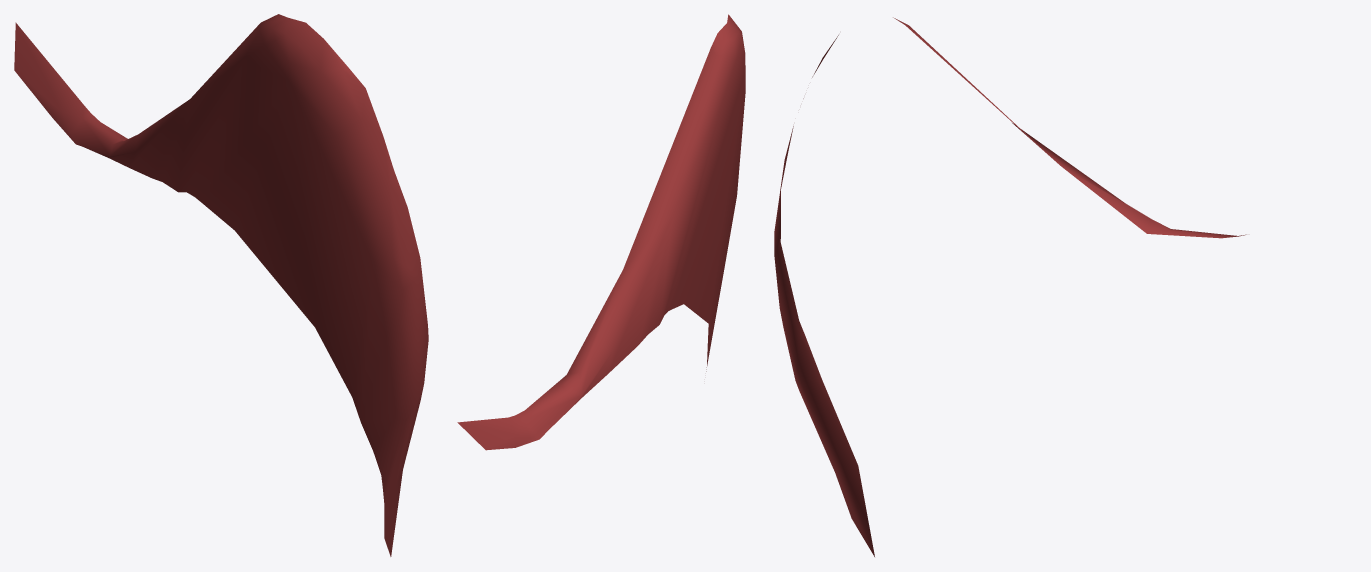
The model's file is temporalis-muscle-er.glb.
3 views of the same model, side by side, from view 1: azimuth 30°, elevation 25°; view 2: azimuth 150°, elevation 25°; view 3: azimuth 270°, elevation 25° (orthographic). The views are drawn at different scales.
Visible parts, largest first — view 1: Temporalis muscle.er; view 2: Temporalis muscle.er; view 3: Temporalis muscle.er.
Boxes of the visible parts, x1=… form: Temporalis muscle.er: x1=14, y1=14, x2=428, y2=556; Temporalis muscle.er: x1=457, y1=14, x2=745, y2=450; Temporalis muscle.er: x1=774, y1=17, x2=1246, y2=556.
Bounding box in the file's own units: 0.00495 × 0.021 × 0.0222.
